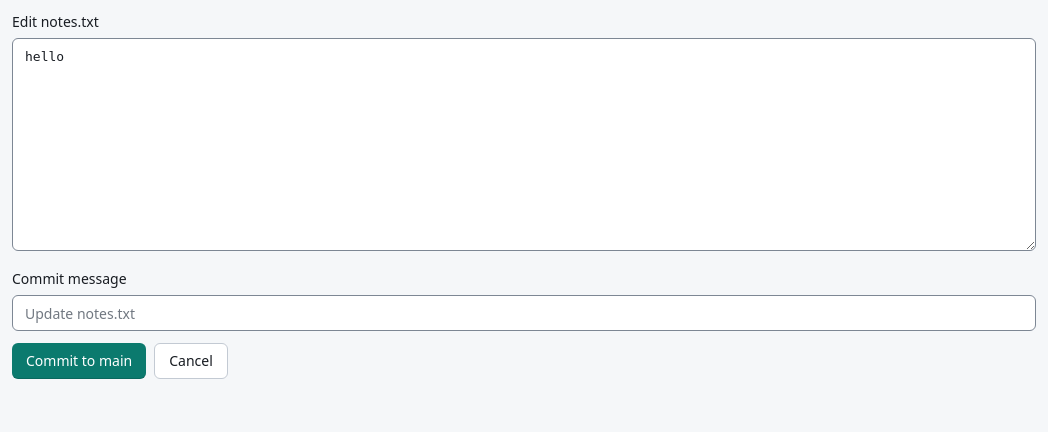
Test: FileEditor › commits against the Commit editing started from, and explains a conflict
What coordinates should you click on to do the following:
click the button "Commit to main"
I would click on:
 (79, 361)
Its box is [12,343,146,379].
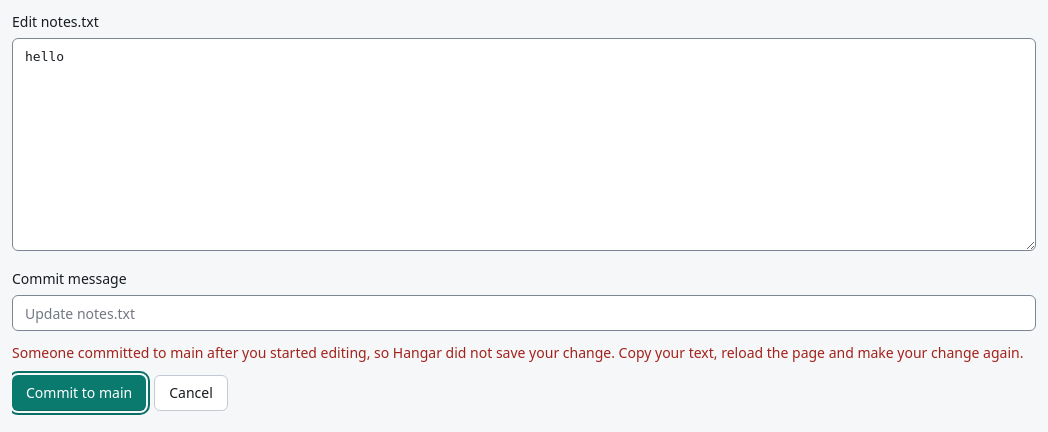
Expected: the message shows "Someone committed to main after you started editing, so Hangar did not save your change.", [12,343,1036,363]
